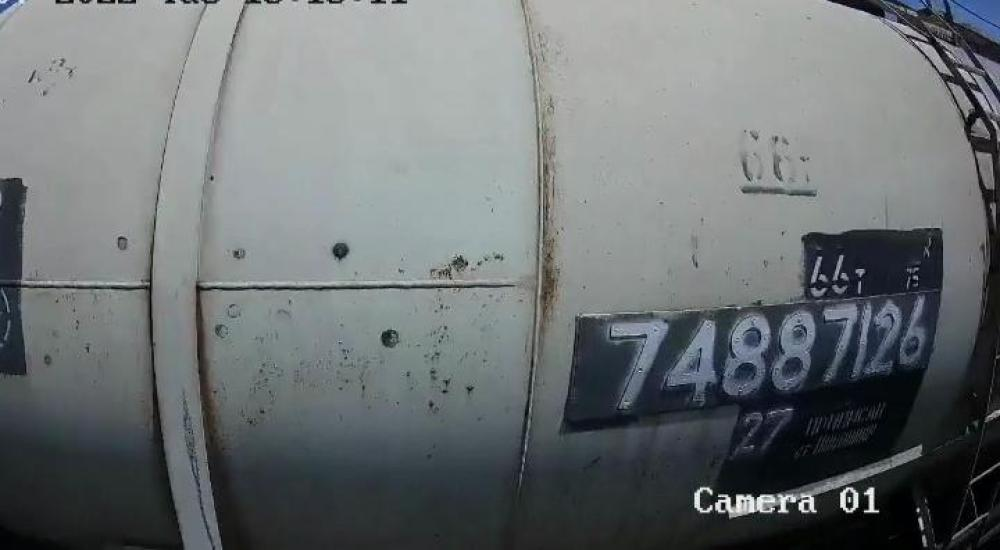Wagon-number: (599, 288, 934, 415)
